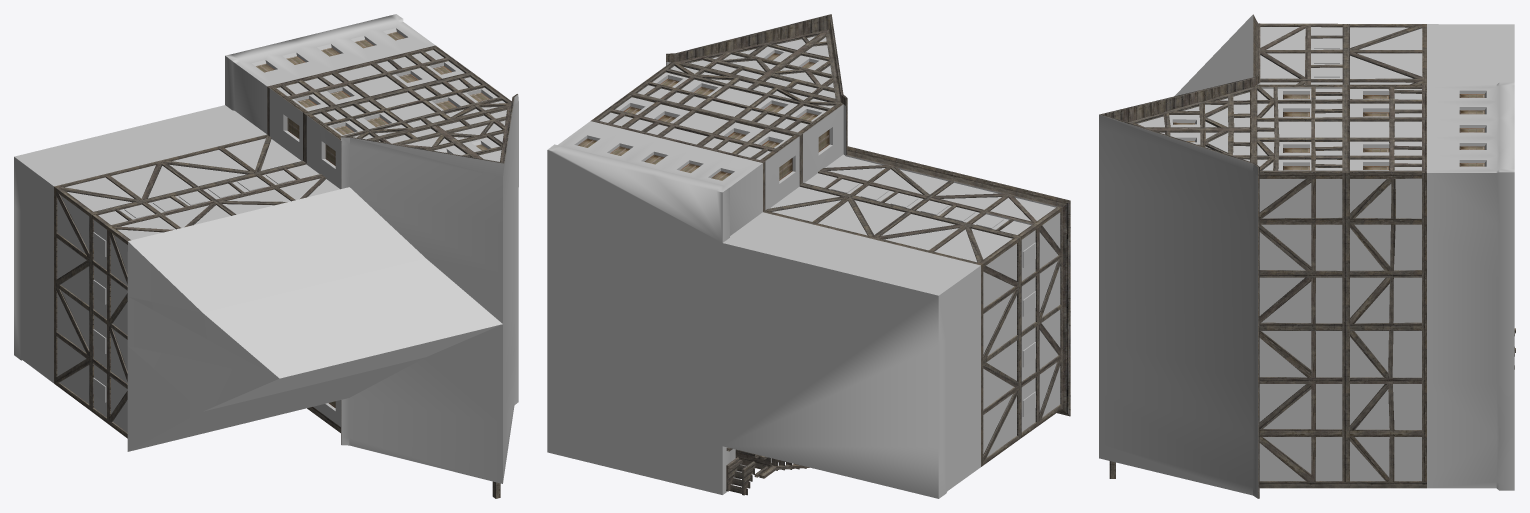
File: fachwerkhaus2.fbx
The picture shows the model from 3 angles, left to right: view 1: azimuth 30°, elevation 25°; view 2: azimuth 150°, elevation 25°; view 3: azimuth 270°, elevation 25°; orthographic projection. The views are drawn at different scales.
Visible parts, largest first — view 1: object; view 2: object; view 3: object.
Boxes of the visible parts, <box> form: object: <box>14,14,518,498</box>; object: <box>547,14,1070,498</box>; object: <box>1099,14,1515,498</box>.
Size of the model in its own units: 401 by 332 by 342.
